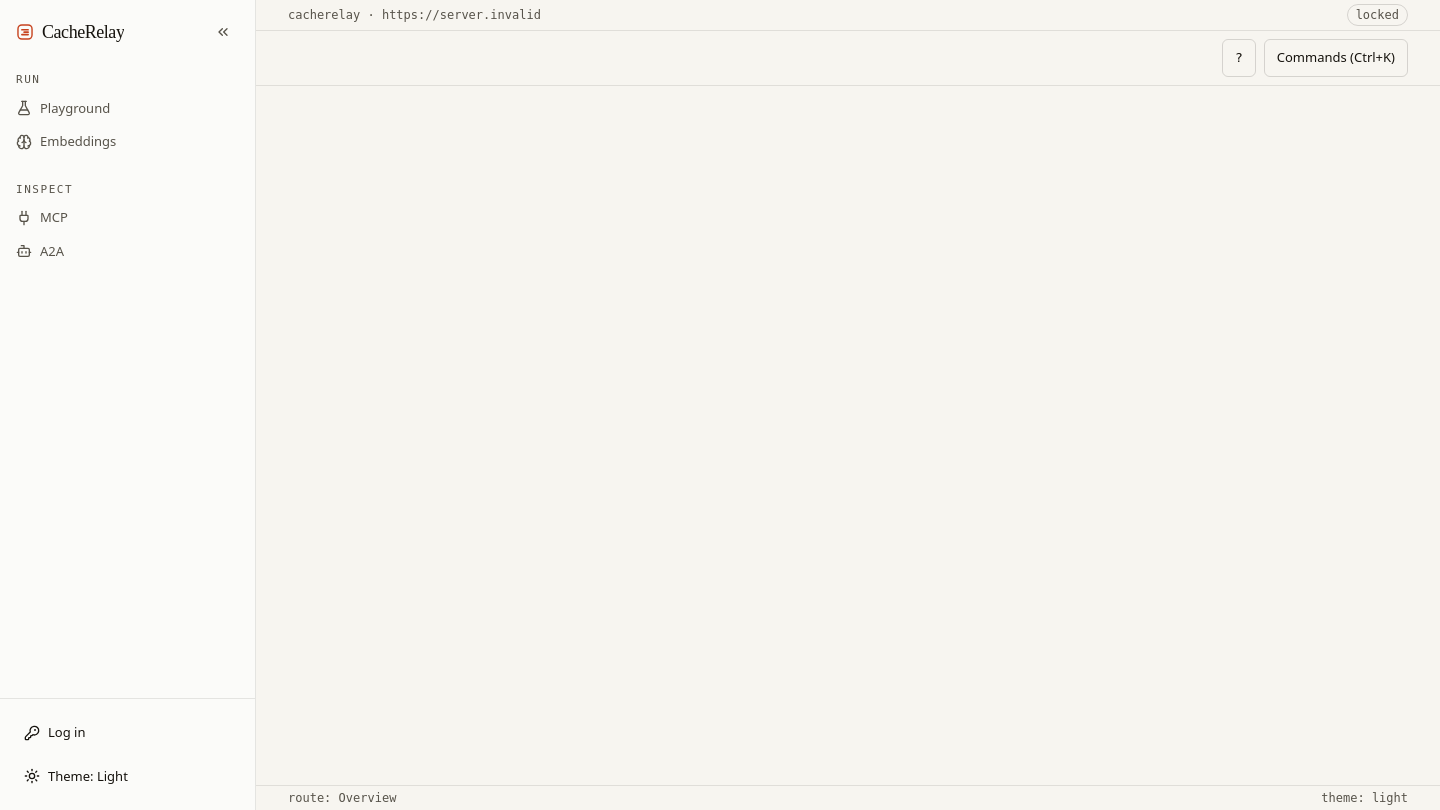
Layout › collapses to icons and persists the preference
Expected: the text "Playground" is shown, [40,98,110,118]
Click the button named "collapse sidebar": (223, 32) [207,16,239,48]
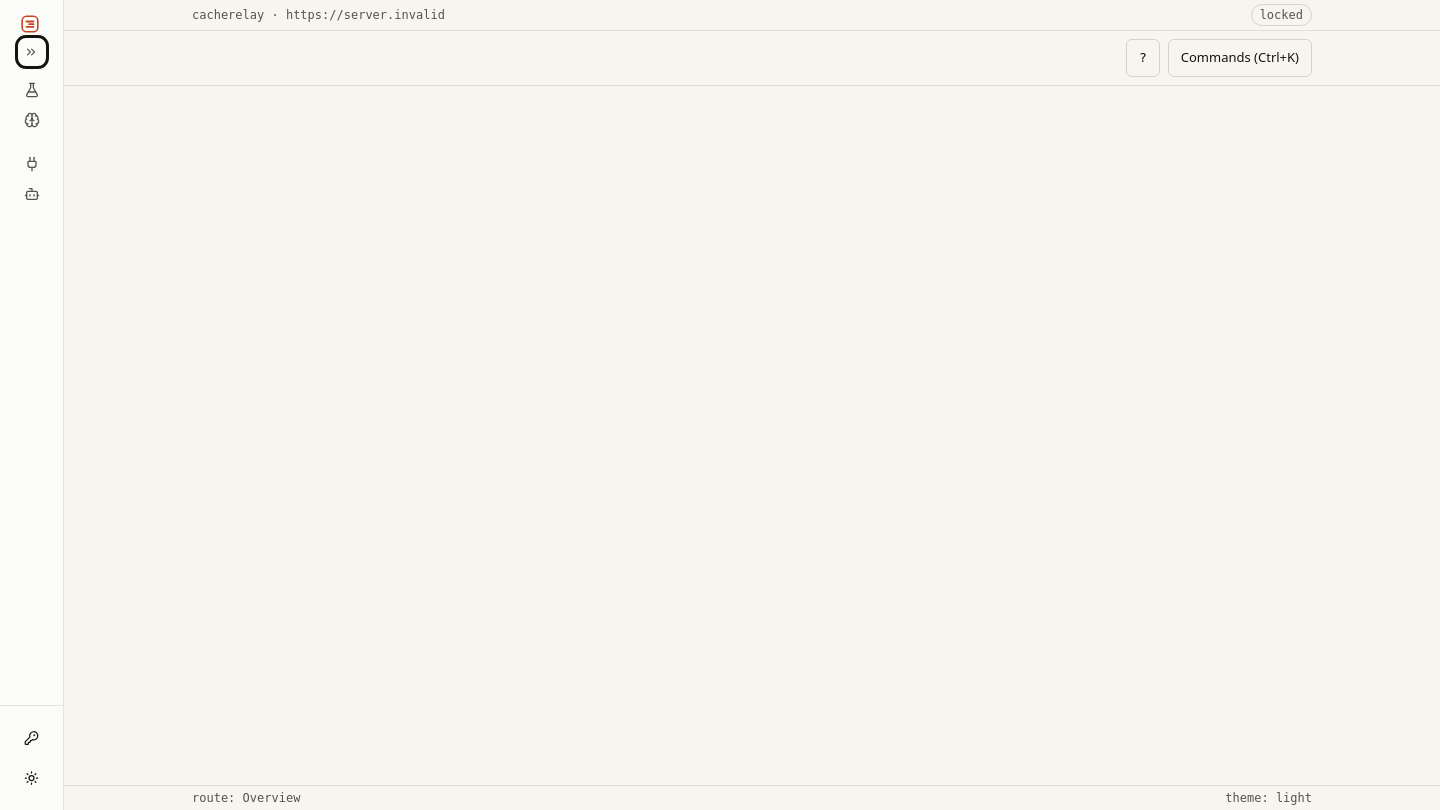
Expected: the text "Playground" is gone
Expected: the button named "expand sidebar" is shown
Click the button named "expand sidebar": (32, 52) [20,40,44,64]
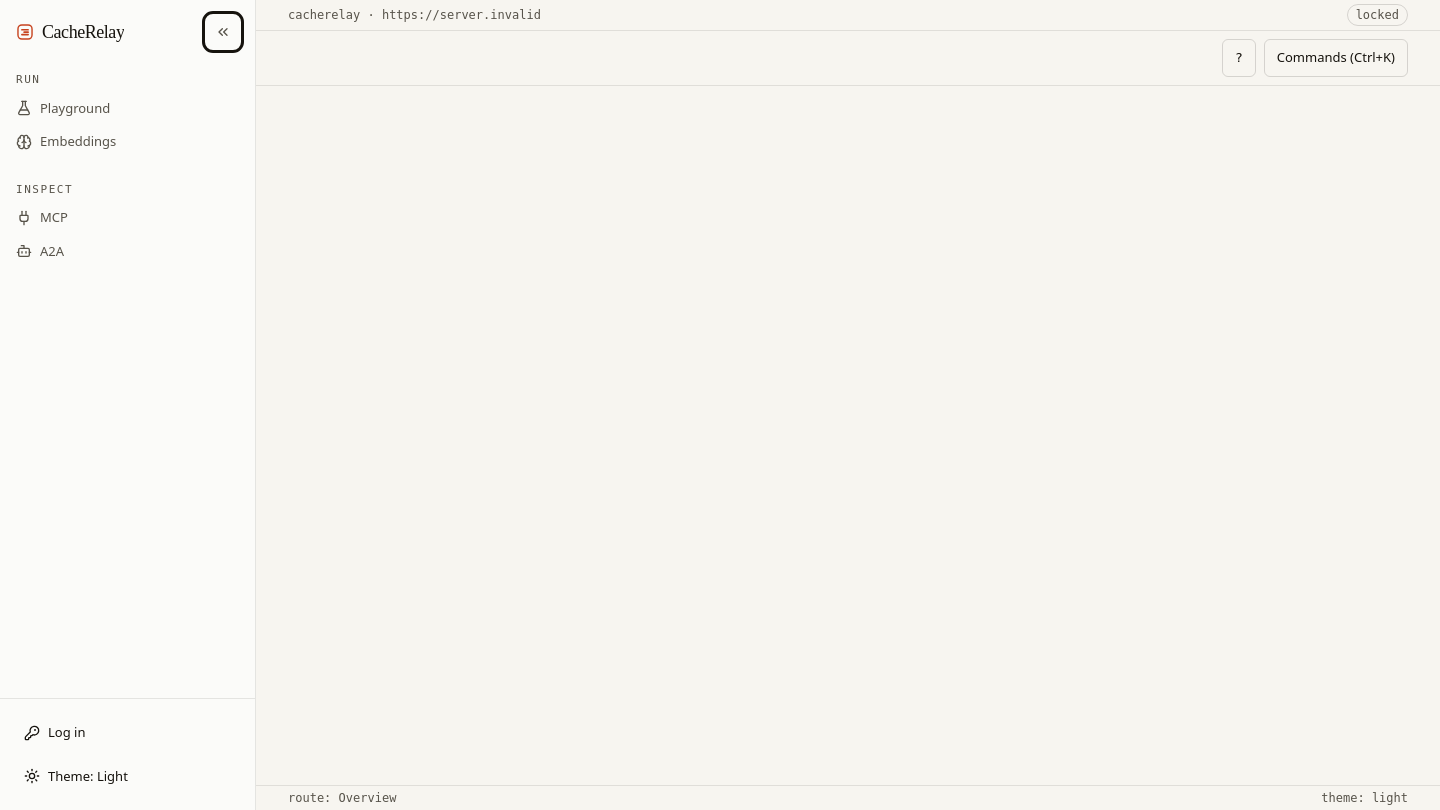
Expected: the text "Playground" is shown, [40,98,110,118]
